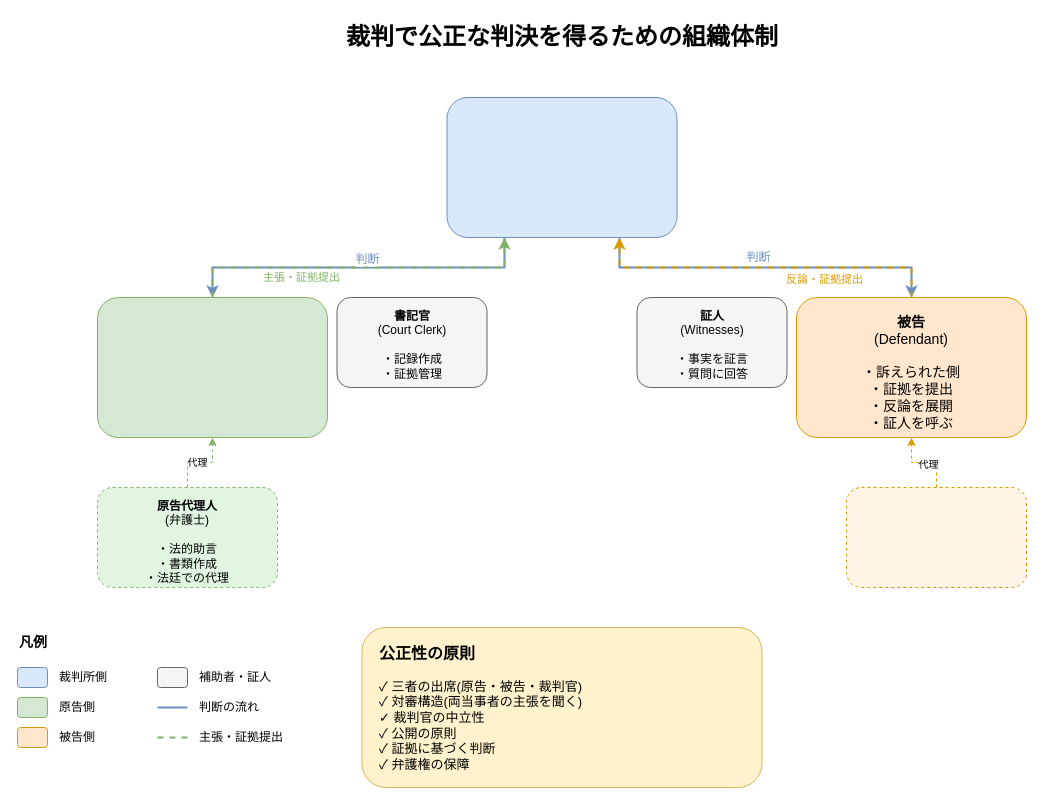
This 1044x805 diagram has some shape labels left out. The shapes that lost their labels are listed below. From the top down, each one's centre as x and y in pixels, then its label:
(x=561, y=167): 裁判官 (Judge) ・中立的な立場 ・法律に基づき判断 ・証拠を評価 ・判決を下す
(x=212, y=367): 原告 (Plaintiff) ・訴えを起こす側 ・証拠を提出 ・主張を展開 ・証人を呼ぶ
(x=936, y=537): 被告代理人 (弁護士) ・法的助言 ・書類作成 ・法廷での代理
